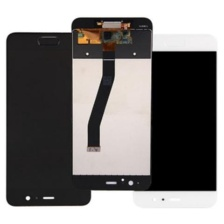phone: (130, 30, 220, 211), (3, 29, 93, 209), (66, 14, 156, 193)
